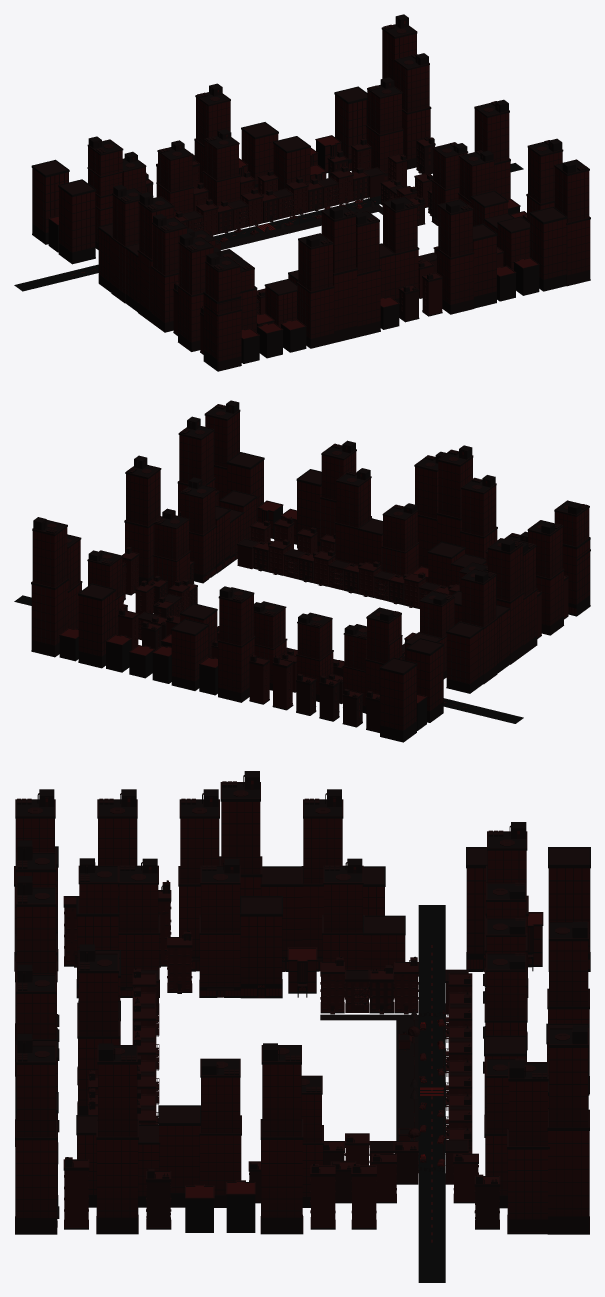
The model's file is estacao_cidade.glb.
3 renders of one model, top to bottom at view 1: azimuth 30°, elevation 25°; view 2: azimuth 150°, elevation 25°; view 3: azimuth 270°, elevation 25°, orthographic. The views are drawn at different scales.
Parts seen in each view (by area): view 1: House_02_243, House_02_237, House_02_238, House_02_248, House_02_260, House_02_256, House_02_258, House_02_222, House_02_239, Bank_01_251, House_02_172, House_02_190 (+49 smaller); view 2: House_02_220, House_02_212, House_02_226, House_02_258, Bank_01_249, House_02_179, House_02_255, House_02_253, House_02_190, Bank_01_218, House_02_237, House_02_238 (+58 smaller); view 3: asfalto_40, House_02_220, House_02_248, House_02_230, House_02_226, House_02_222, House_02_201, House_02_179, House_02_190, House_02_253, House_02_203, House_02_256 (+48 smaller).
Part boxes in pixels (x1,y1,x2,y2): House_02_243: (436, 199, 474, 314); House_02_237: (296, 233, 334, 348); House_02_238: (321, 205, 357, 342); House_02_248: (554, 159, 590, 286); House_02_260: (204, 253, 241, 371); House_02_256: (151, 214, 187, 332); House_02_258: (177, 233, 214, 351); House_02_222: (394, 53, 431, 169); House_02_239: (355, 210, 381, 337); Bank_01_251: (58, 179, 96, 264); House_02_172: (366, 77, 403, 180); House_02_190: (381, 196, 419, 302); House_02_220: (31, 517, 68, 657); House_02_212: (217, 586, 255, 702); House_02_226: (124, 455, 161, 585); House_02_258: (527, 520, 564, 635); Bank_01_249: (379, 657, 417, 742); House_02_179: (180, 477, 216, 583); House_02_255: (487, 538, 524, 664); House_02_253: (460, 568, 497, 684); House_02_190: (335, 468, 372, 564); Bank_01_218: (78, 583, 115, 668); House_02_237: (460, 475, 497, 558); House_02_238: (436, 445, 473, 546); asfalto_40: (418, 905, 445, 1282); House_02_220: (547, 1025, 589, 1234); House_02_248: (15, 1034, 59, 1234); House_02_230: (96, 1043, 138, 1234); House_02_226: (260, 1043, 303, 1234); House_02_222: (507, 1062, 549, 1234); House_02_201: (199, 858, 240, 997); House_02_179: (199, 1058, 241, 1207); House_02_190: (77, 944, 120, 1114); House_02_253: (301, 789, 343, 971); House_02_203: (118, 858, 160, 997); House_02_256: (178, 789, 219, 971).
Bounding box in the file's own units: 250 × 62.31 × 161.
1 material, 1 textured.
